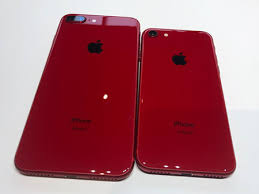iphone: (134, 26, 233, 181)
